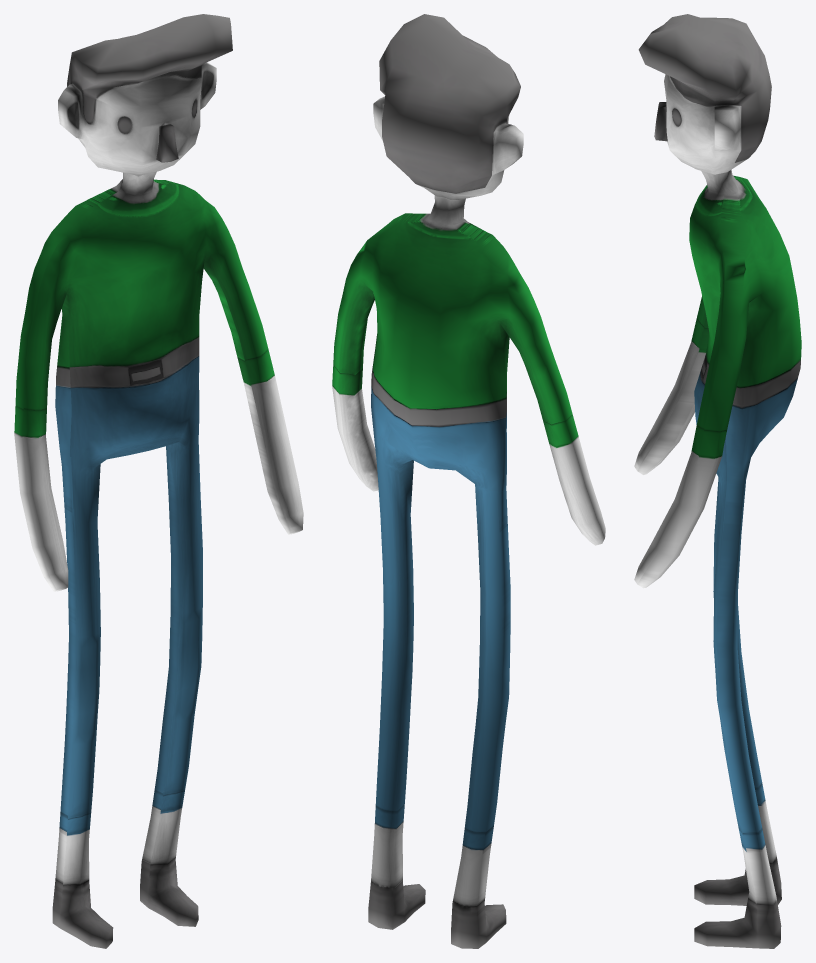
The model's file is mike_difusse.obj.
3 views of the same model, side by side, from view 1: azimuth 30°, elevation 25°; view 2: azimuth 150°, elevation 25°; view 3: azimuth 270°, elevation 25° (orthographic). The views are drawn at different scales.
Parts seen in each view (by area): view 1: Low; view 2: Low; view 3: Low.
Boxes of the visible parts, x1,y1,x2,y2 form: Low: (14, 14, 303, 948); Low: (332, 14, 605, 948); Low: (634, 14, 801, 948).
Bounding box in the file's own units: 0.2009 × 0.6813 × 0.1133.
